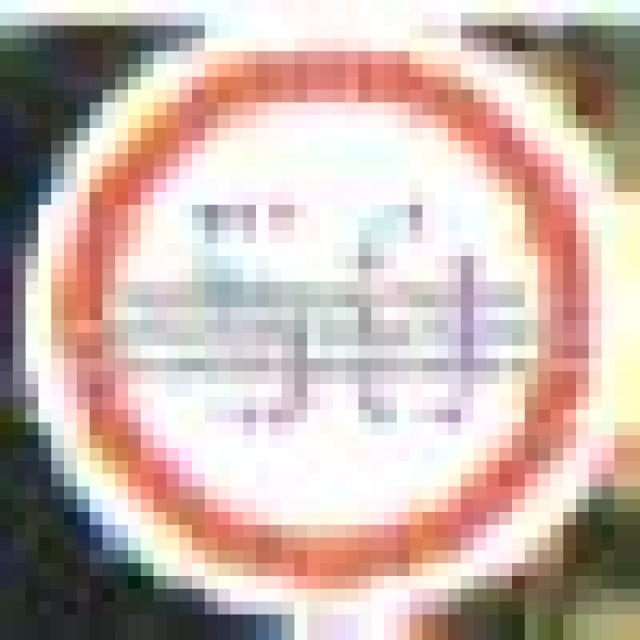speed_limit_30: (38, 26, 589, 576)
